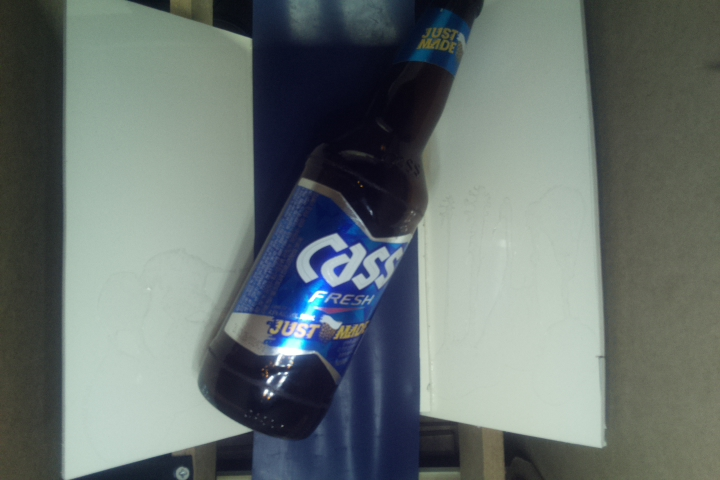makju: (204, 1, 492, 439)
